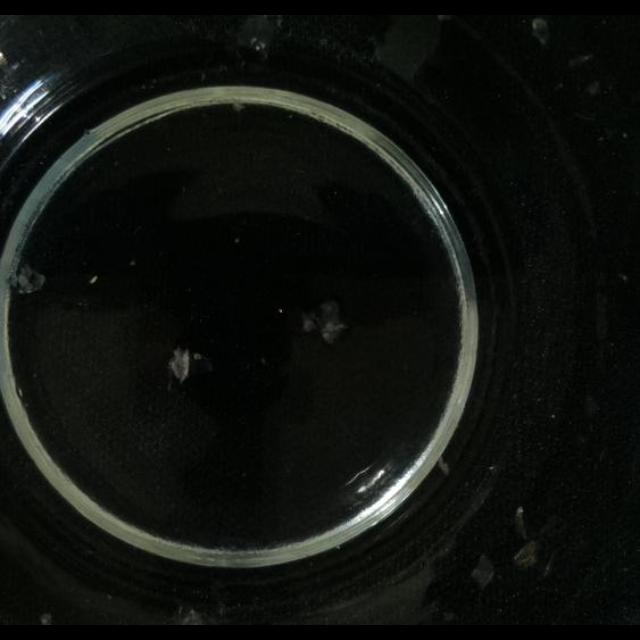Fibre: (302, 300, 348, 346), (168, 346, 212, 386), (11, 264, 47, 294), (530, 18, 550, 46), (177, 608, 205, 624), (568, 52, 594, 68), (436, 455, 450, 475), (586, 80, 602, 96), (230, 101, 248, 113), (618, 272, 628, 282)
microbeads: (38, 614, 52, 624), (260, 358, 268, 367), (89, 276, 97, 284)
